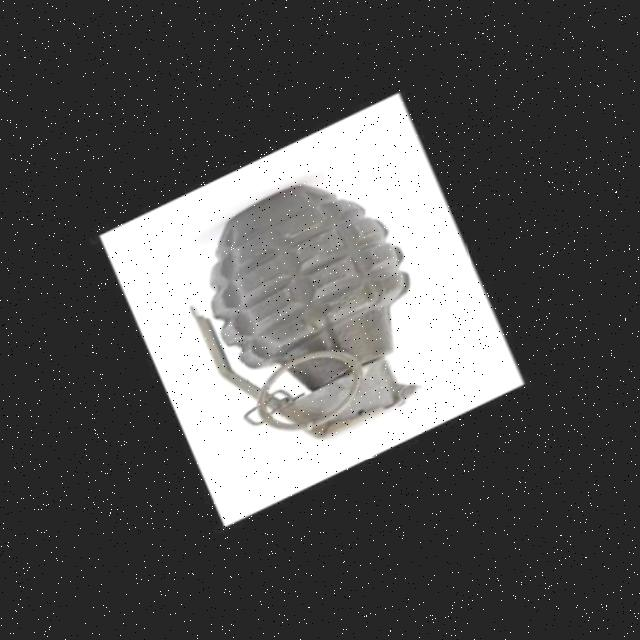grenade: (128, 124, 491, 499)
